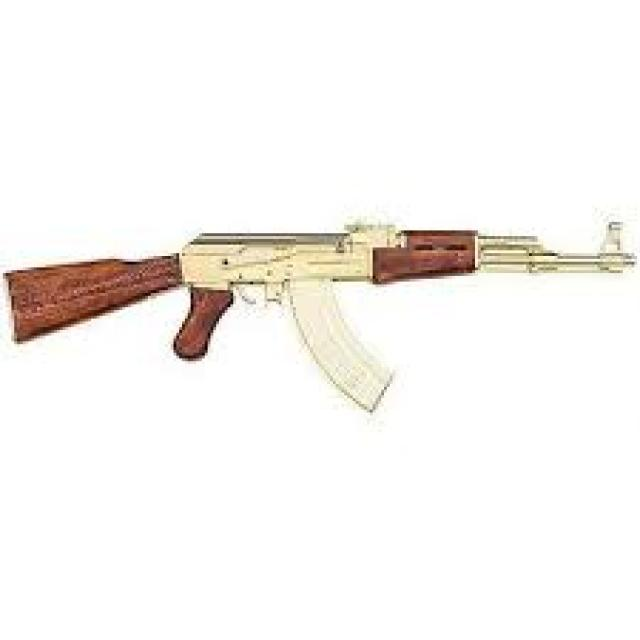rifle: (1, 207, 640, 416)
